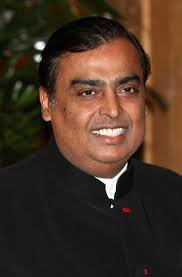noMask: (37, 18, 161, 172)
